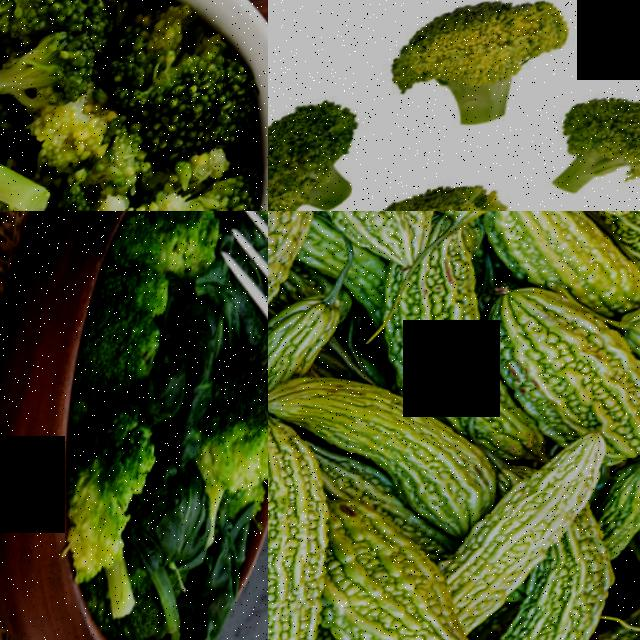bitter gourd: (284, 401, 511, 537), (395, 253, 534, 435), (525, 287, 640, 467), (326, 531, 508, 640), (268, 435, 359, 640), (463, 488, 634, 581), (294, 211, 468, 258), (478, 590, 631, 640)
broccoli: (383, 0, 581, 150), (77, 423, 165, 624), (88, 253, 177, 424), (268, 92, 375, 211), (17, 0, 117, 125), (550, 80, 640, 211), (206, 356, 268, 540), (82, 167, 254, 211), (340, 174, 531, 211), (169, 211, 245, 292)
